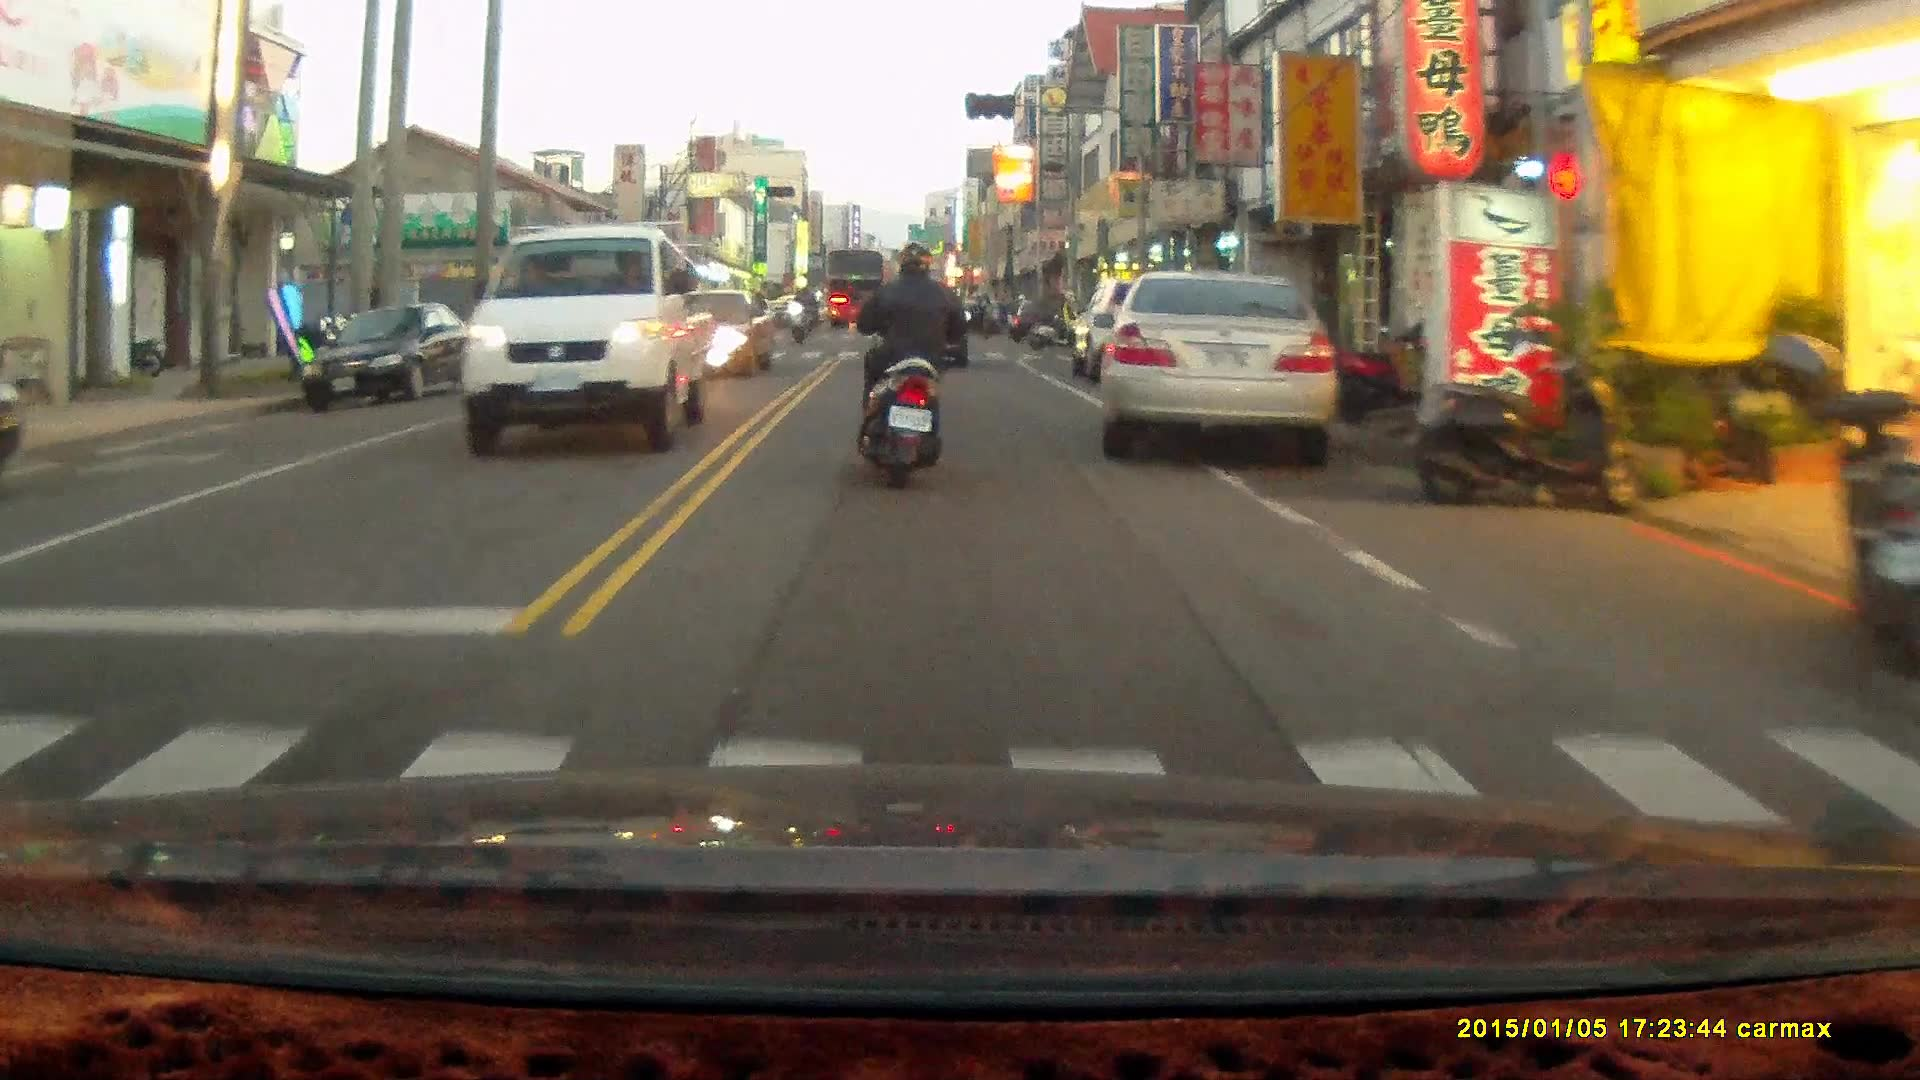pedestrian: (1058, 287, 1082, 357)
rider: (845, 242, 970, 492)
vehicle: (456, 232, 707, 462), (1094, 269, 1343, 464), (300, 308, 479, 411), (822, 251, 888, 334)
